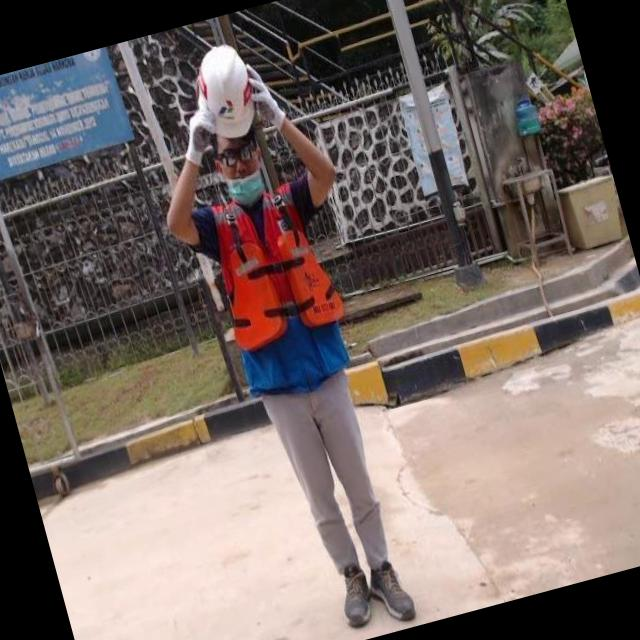hard_hat: (187, 39, 264, 142)
safety_vest: (196, 176, 356, 394)
vehicle: (123, 69, 466, 640)
work_boots: (364, 552, 421, 628), (331, 556, 380, 629)
